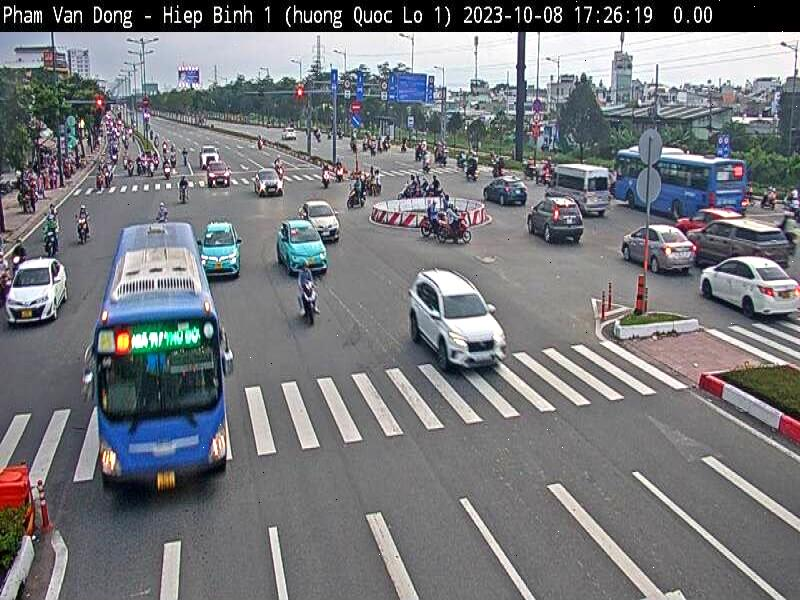bus: (93, 220, 233, 496), (614, 146, 747, 210)
car: (408, 269, 507, 367), (701, 258, 800, 314), (688, 219, 790, 267), (6, 259, 67, 326), (544, 163, 610, 219), (621, 226, 695, 275), (277, 219, 330, 274), (527, 197, 583, 244), (200, 220, 241, 275), (299, 202, 340, 243), (484, 176, 528, 206), (254, 167, 284, 198), (207, 161, 231, 188)
